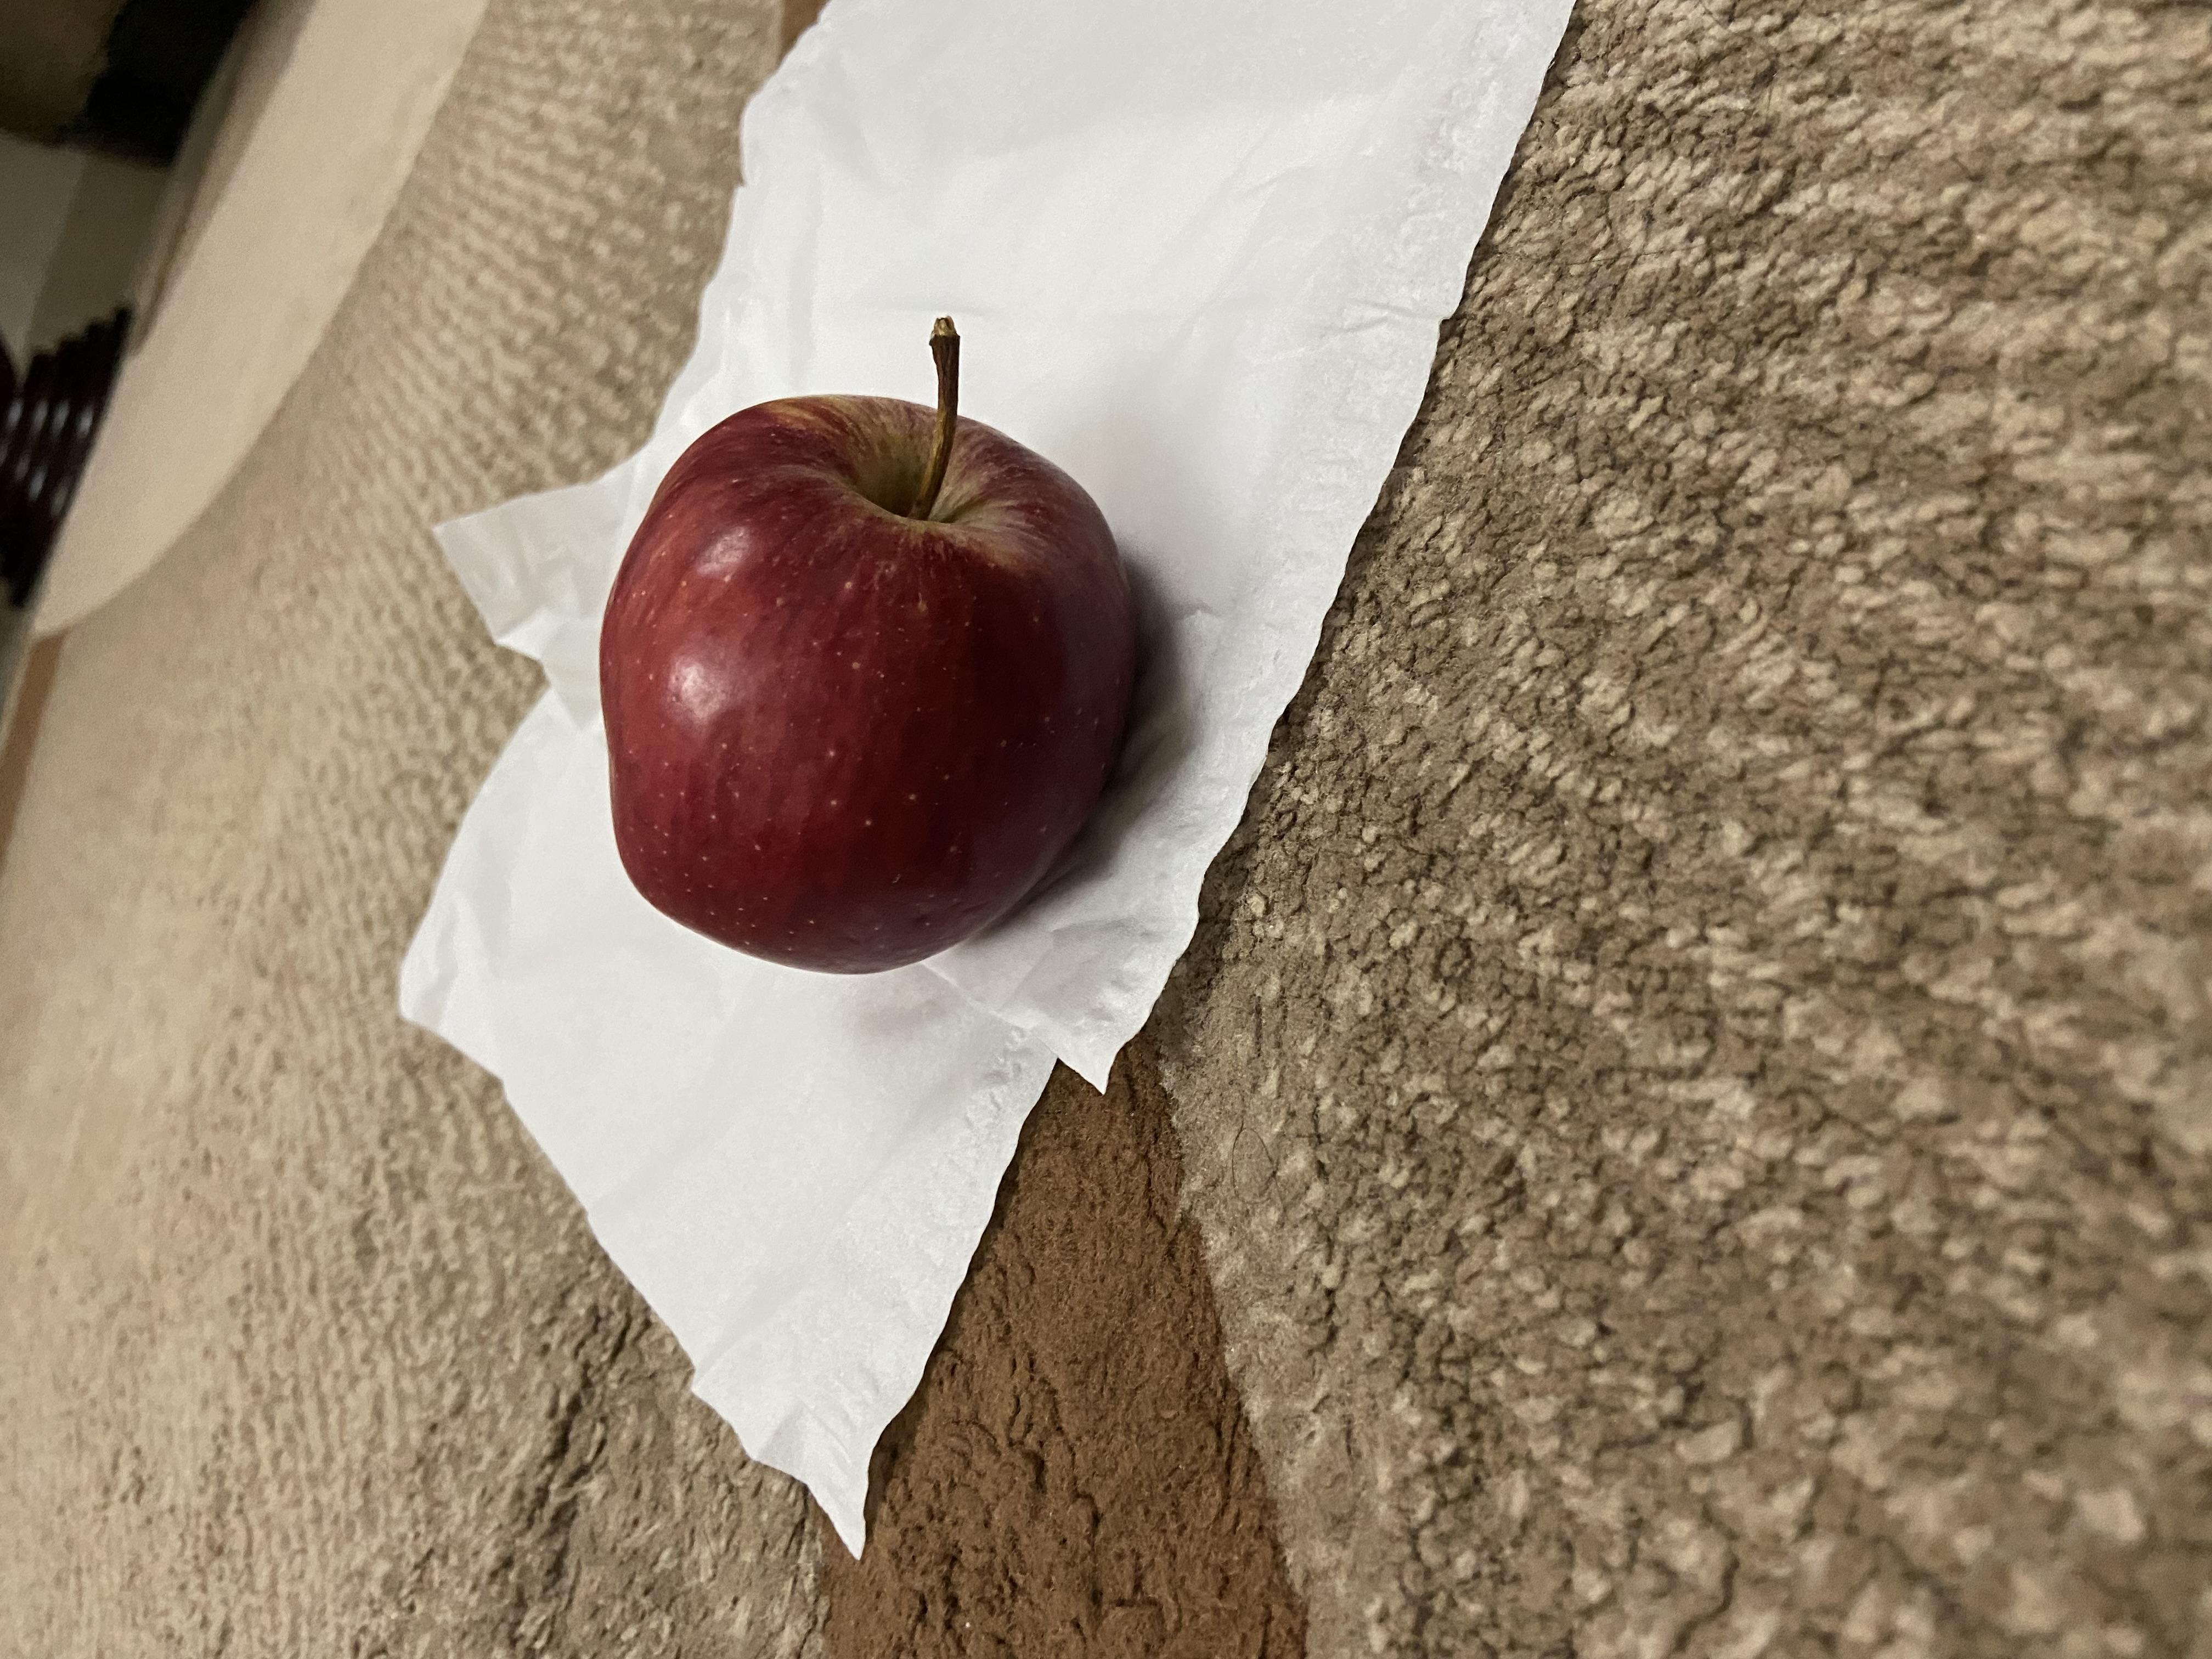Apple: (895, 441, 1808, 877)
